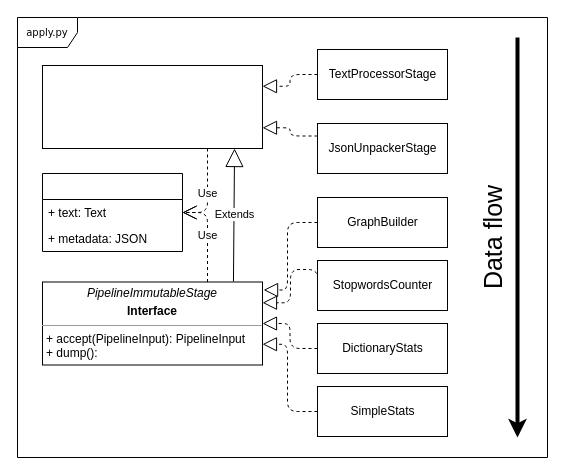
The diagram is 565 pixels wide and 475 high, and some of its shapes have lost their labels. Each missing label, with the box of its shape:
PipelineInput: (42, 172, 182, 252)
PipelineStage Interface + accept(PipelineInput): PipelineInput + dump():: (42, 64, 262, 148)
